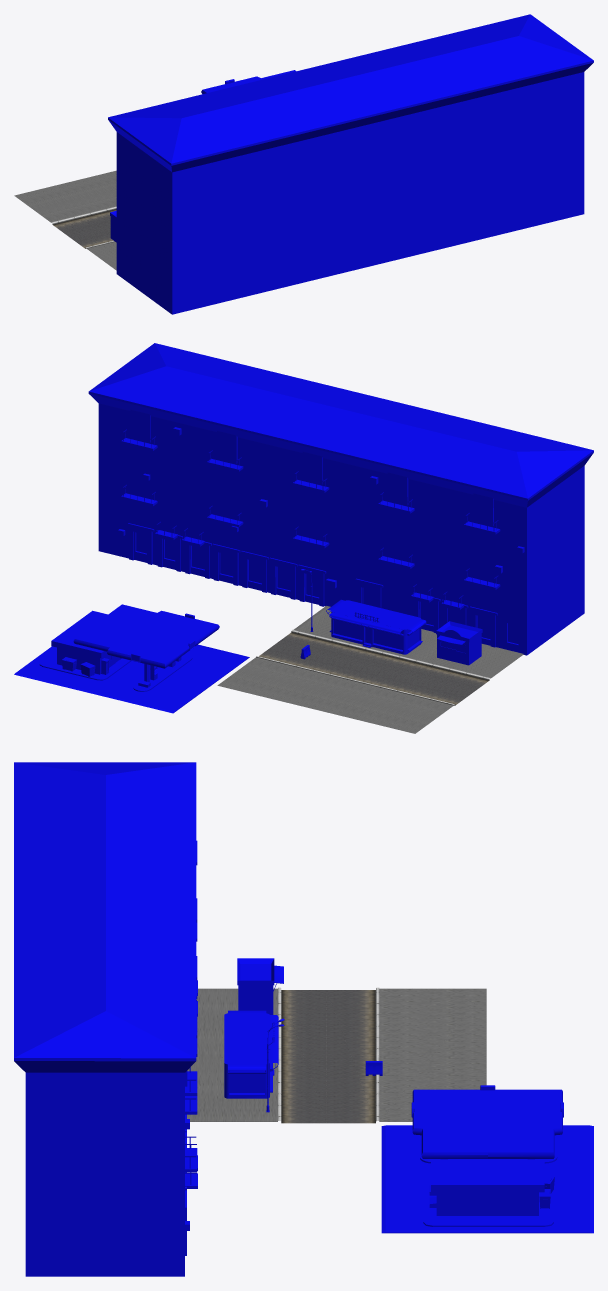
File: street.FBX
3 renders of one model, top to bottom at view 1: azimuth 30°, elevation 25°; view 2: azimuth 150°, elevation 25°; view 3: azimuth 270°, elevation 25°, orthographic. The views are drawn at different scales.
Parts seen in each view (by area): view 1: Object_013, Road_s_3m, AZS; view 2: Object_013, Road_s_3m, AZS, Object_009, Food; view 3: Object_013, Road_s_3m, AZS, Object_009, Food.
Boxes of the visible parts, x1,y1,x2,y2 form: Object_013: (108,14,593,314); Road_s_3m: (14,170,116,270); AZS: (201,70,295,94); Object_013: (88,343,593,655); Road_s_3m: (217,606,523,733); AZS: (14,604,249,713); Object_009: (326,599,426,654); Food: (436,621,482,665); Object_013: (14,762,197,1276); Road_s_3m: (187,987,486,1123); AZS: (381,1085,593,1233); Object_009: (224,1010,278,1098); Food: (237,958,283,1014).
Size of the model in its own units: 22.18 by 8.38 by 18.37.
9 materials, 1 textured.
